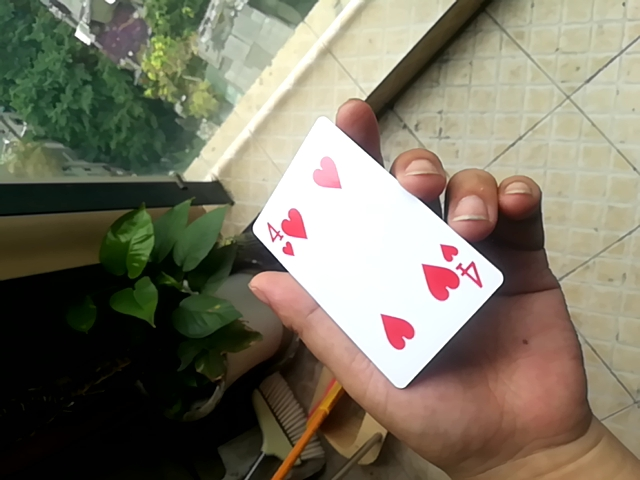hx 4: (247, 107, 508, 392)
